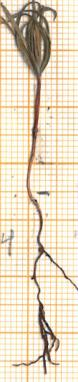flower: (0, 0, 64, 80)
root: (10, 193, 77, 377)
stem: (19, 81, 43, 194)
